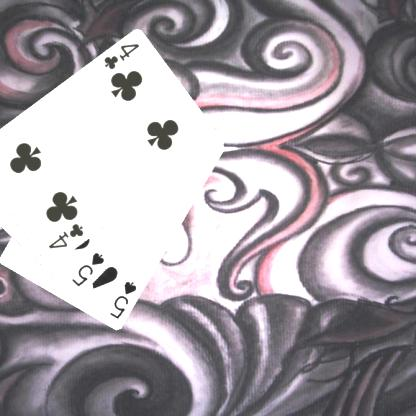4C: (45, 220, 85, 251), (101, 41, 141, 71)
5S: (69, 250, 106, 288), (107, 279, 138, 321)
